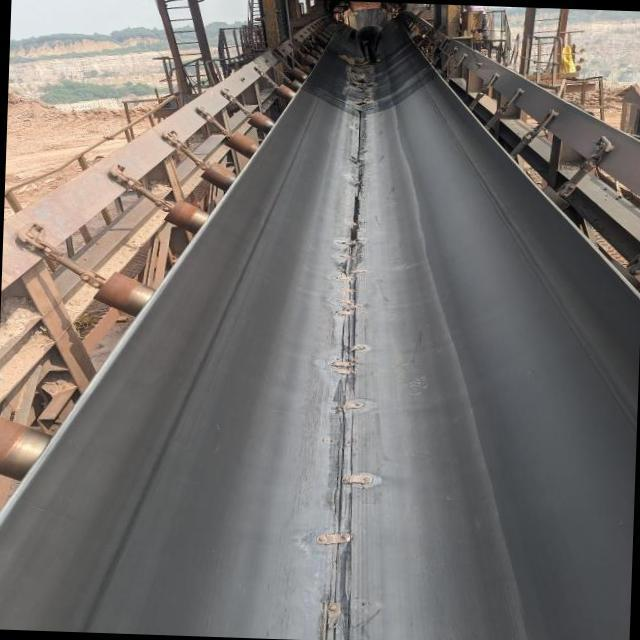Tear: (304, 61, 384, 640)
